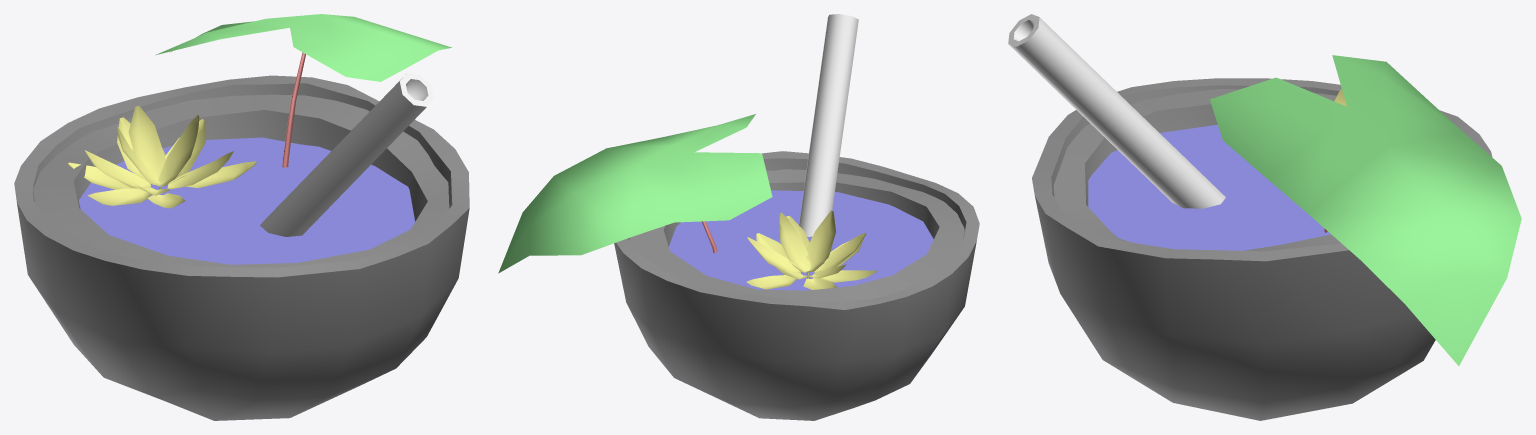
File: SM_prop_cocktail_A.gltf
The picture shows the model from 3 angles, left to right: view 1: azimuth 30°, elevation 25°; view 2: azimuth 150°, elevation 25°; view 3: azimuth 270°, elevation 25°; orthographic projection. The views are drawn at different scales.
Parts seen in each view (by area): view 1: SM_prop_cocktail_A; view 2: SM_prop_cocktail_A; view 3: SM_prop_cocktail_A.
Boxes of the visible parts, x1,y1,x2,y2 form: SM_prop_cocktail_A: [14, 14, 469, 420]; SM_prop_cocktail_A: [498, 14, 979, 420]; SM_prop_cocktail_A: [1008, 14, 1521, 420].
Bounding box in the file's own units: 0.2024 × 0.1613 × 0.1839.
